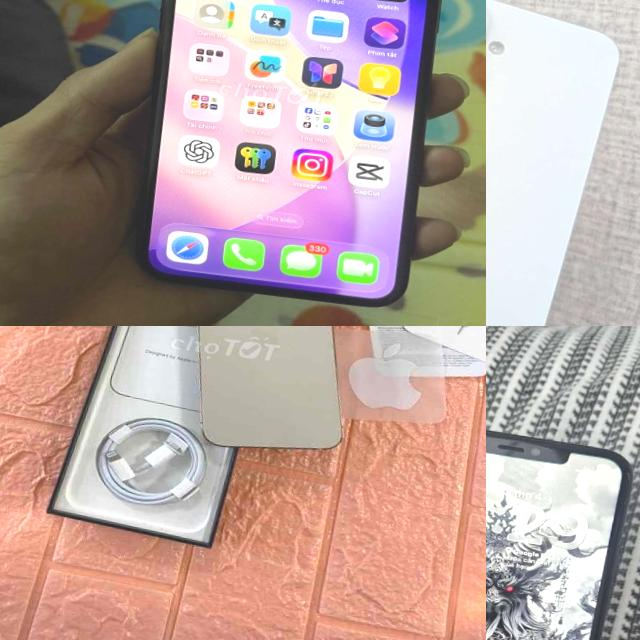gen_11: (136, 0, 439, 305), (486, 404, 631, 640)
gen_12_13: (163, 326, 378, 460)
gen_16: (486, 0, 635, 326)
